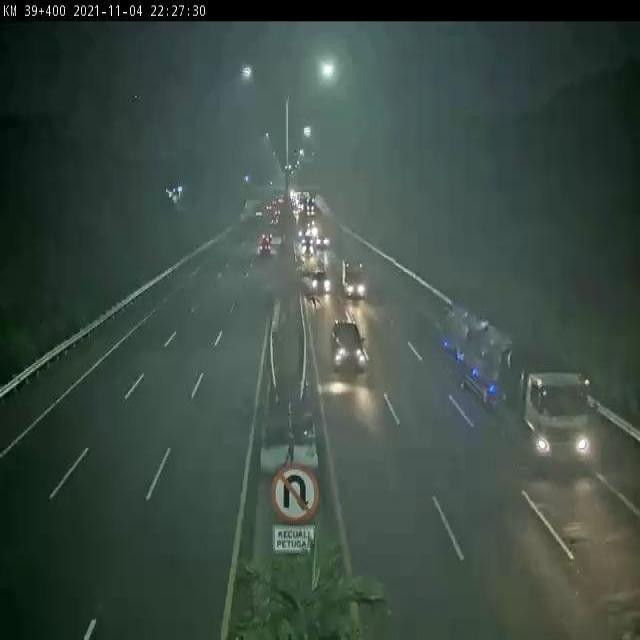ARABA: (328, 319, 367, 376), (309, 262, 332, 298)
KAMYONET: (340, 255, 371, 304)
TIR: (441, 306, 590, 462)
